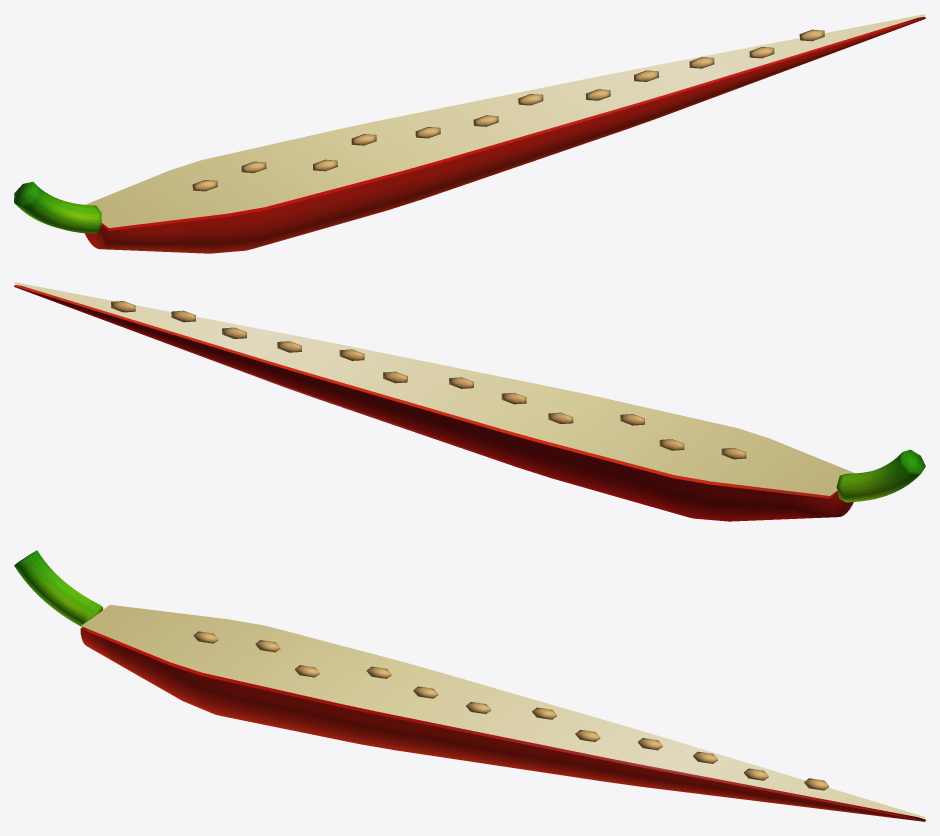
File: NP_ChiliPepper_CutHalf.fbx
The picture shows the model from 3 angles, top to bottom: view 1: azimuth 30°, elevation 25°; view 2: azimuth 150°, elevation 25°; view 3: azimuth 330°, elevation 25°; orthographic projection.
Parts seen in each view (by area): view 1: NP_ChiliPepper_CutHalf.001; view 2: NP_ChiliPepper_CutHalf.001; view 3: NP_ChiliPepper_CutHalf.001.
Part boxes in pixels (x1,y1,x2,y2): NP_ChiliPepper_CutHalf.001: (14,14,925,253); NP_ChiliPepper_CutHalf.001: (14,282,925,521); NP_ChiliPepper_CutHalf.001: (14,550,925,821).
Size of the model in its own units: 39.42 by 4.62 by 4.96.
